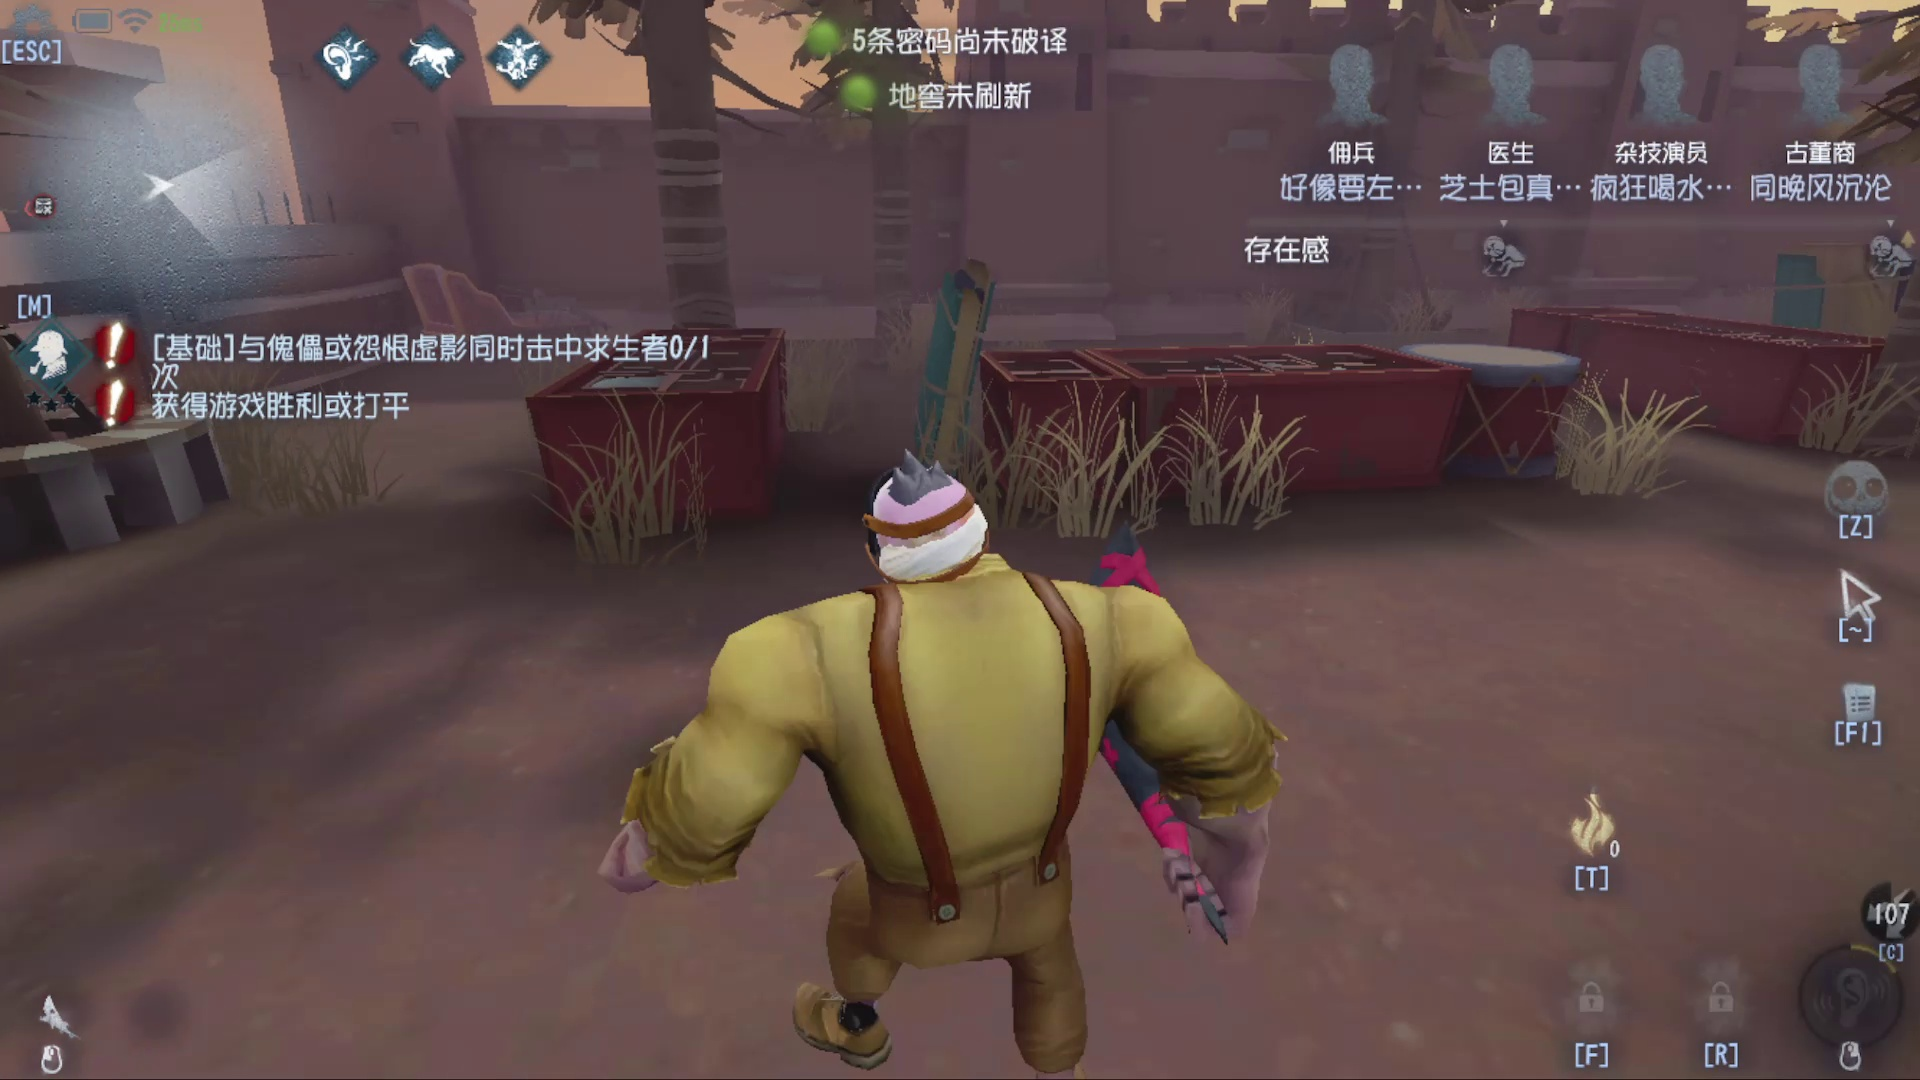木板: (881, 262, 998, 487)
